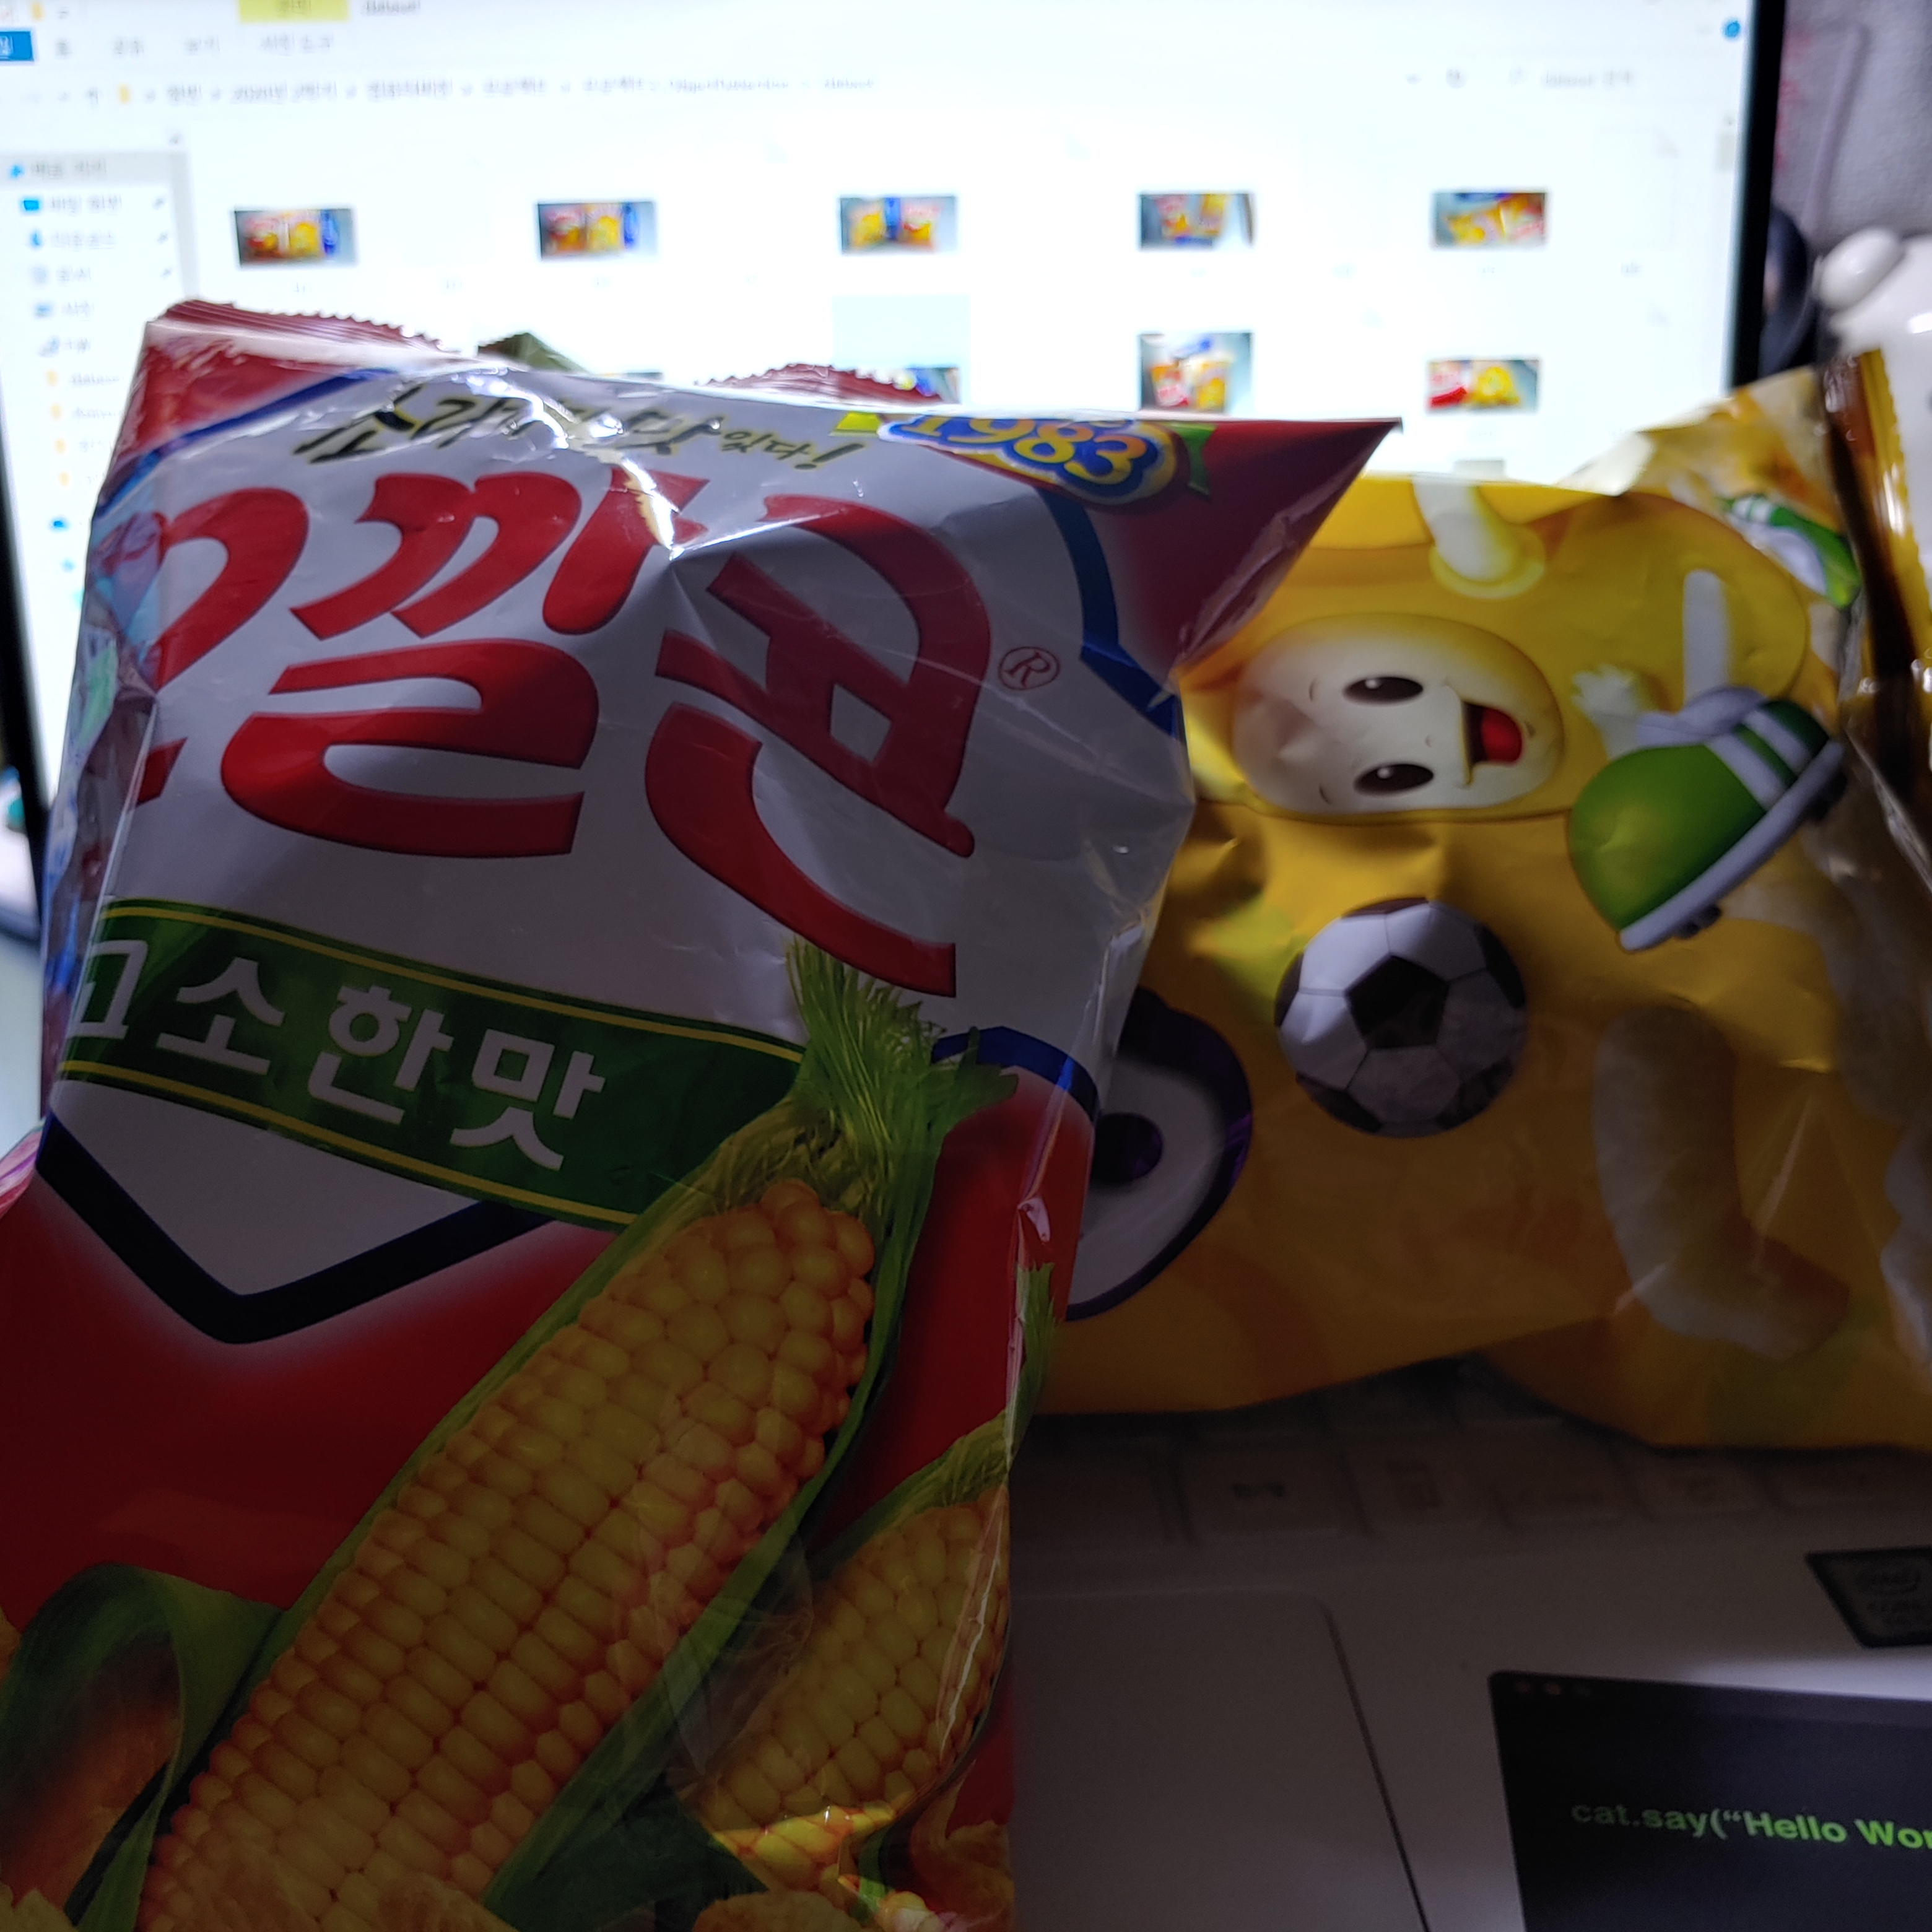banana: (1166, 336, 1932, 1645)
ggoggalcon: (0, 274, 1419, 1928)
